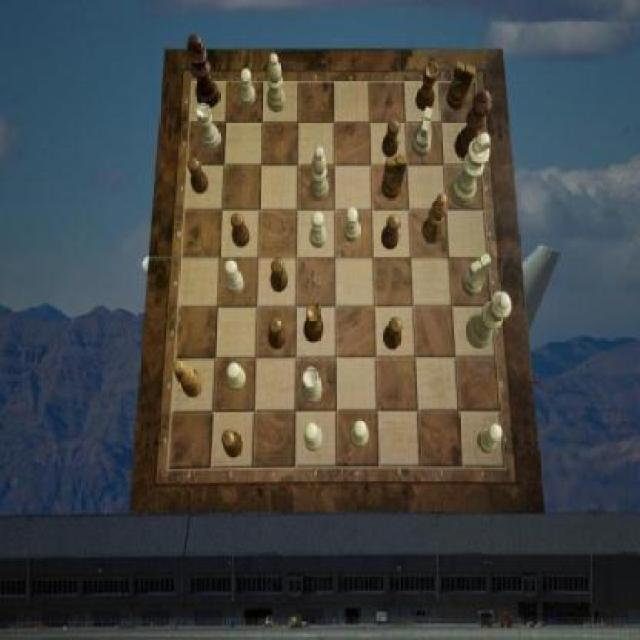bishop: (423, 194, 448, 246), (174, 360, 203, 398)
black-bishop: (188, 34, 222, 108)
black-king: (448, 61, 475, 110), (382, 156, 408, 200)
black-knight: (188, 157, 208, 195), (231, 212, 250, 247), (382, 120, 399, 158), (268, 318, 287, 351), (383, 318, 402, 351), (382, 215, 399, 250), (271, 258, 288, 292), (222, 431, 242, 458)
black-pawn: (454, 91, 491, 160)
black-queen: (417, 63, 440, 112), (304, 303, 324, 343)
black-rook: (266, 54, 286, 112), (309, 148, 329, 202)
white-bishop: (451, 132, 491, 207)
white-king: (462, 254, 492, 298), (412, 108, 432, 158)
white-knight: (477, 424, 501, 454), (224, 260, 244, 296), (240, 68, 257, 106), (311, 211, 328, 248), (344, 208, 362, 242), (304, 423, 324, 451), (228, 363, 248, 391), (351, 420, 368, 448)
white-pawn: (466, 291, 512, 348)
white-queen: (197, 103, 221, 151), (302, 366, 322, 404)
